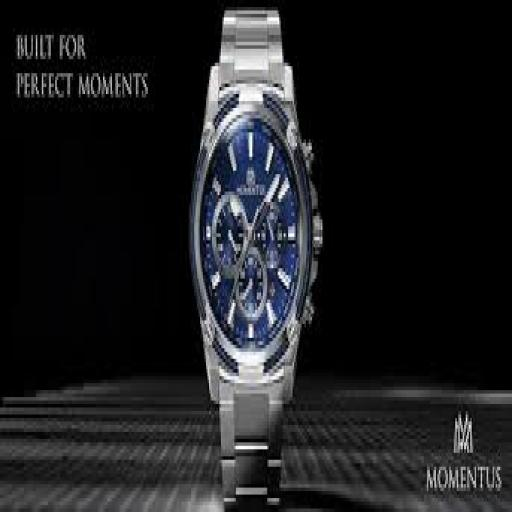KolSaati: (182, 1, 321, 512)
